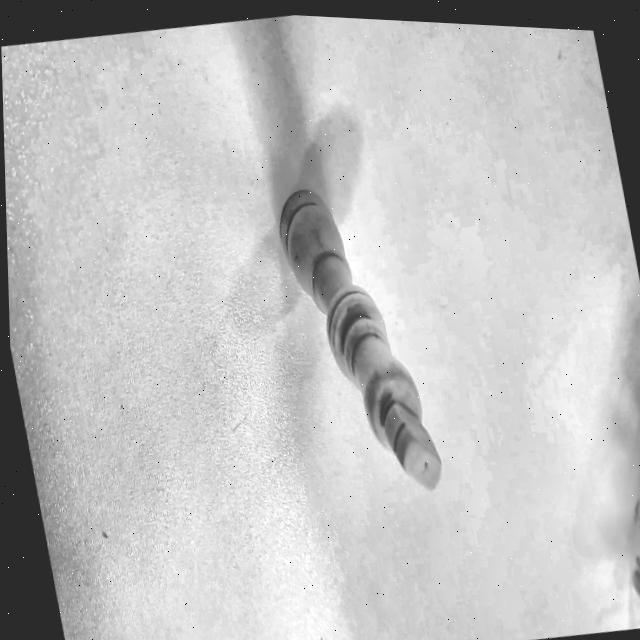white-king: (279, 176, 441, 490)
